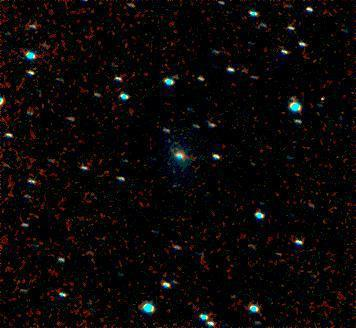star: (306, 83, 336, 113)
